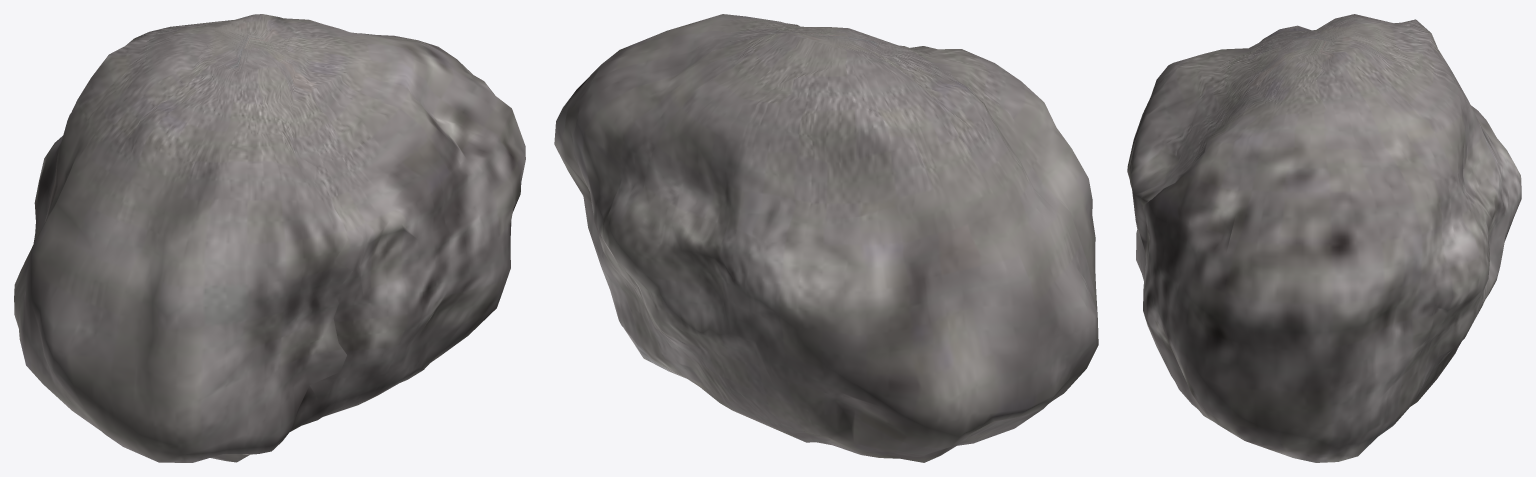
The model's file is epimetheus - thumbnail.dae.
3 renders of one model, left to right at view 1: azimuth 30°, elevation 25°; view 2: azimuth 150°, elevation 25°; view 3: azimuth 270°, elevation 25°, orthographic. The views are drawn at different scales.
Visible parts, largest first — view 1: obj_0; view 2: obj_0; view 3: obj_0.
Part boxes in pixels (left/top/right/bottom): obj_0: left=14, top=14, right=525, bottom=462; obj_0: left=554, top=14, right=1098, bottom=462; obj_0: left=1127, top=14, right=1521, bottom=462.
Size of the model in its own units: 1.45 by 1.03 by 1.12.
1 material, 1 textured.
